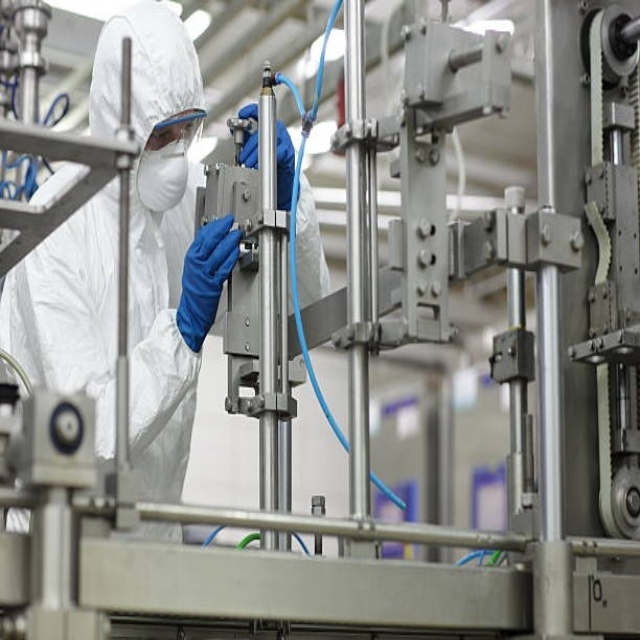Gafas: (146, 113, 211, 159)
Guantes: (175, 215, 243, 353), (237, 105, 297, 210)
Mascara: (134, 132, 192, 215)
